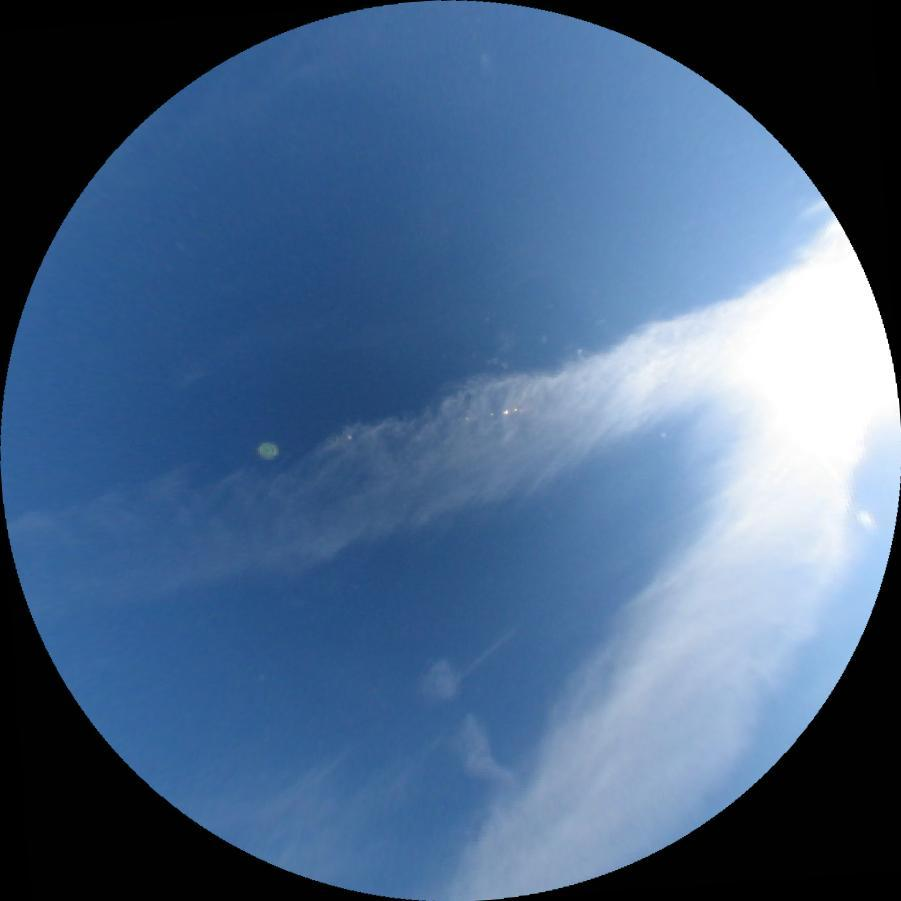contrail veryold: (4, 253, 855, 652), (410, 657, 522, 805)
unknow: (453, 629, 515, 680)
